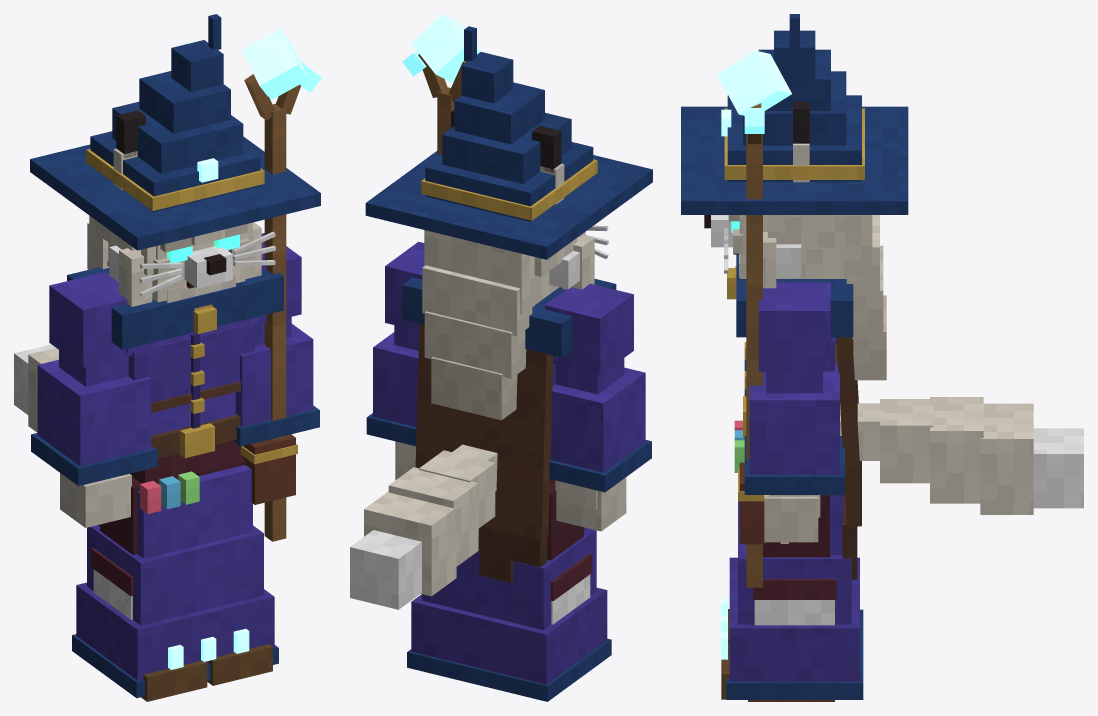
Rendered from beastfolk_mage_v2.glb.
3 renders of one model, left to right at view 1: azimuth 30°, elevation 25°; view 2: azimuth 150°, elevation 25°; view 3: azimuth 270°, elevation 25°, orthographic. The views are drawn at different scales.
Parts seen in each view (by area): view 1: Head, Root, Torso, ArmR, HandL, ArmL, LegR, LegL; view 2: Head, Torso, Root, ArmR, ArmL, HandL, LegR; view 3: Head, Torso, ArmL, Root, HandL, LegL.
Part boxes in pixels (x1,y1,x2,y2): Head: [30, 14, 320, 306]; Root: [72, 465, 278, 698]; Torso: [14, 267, 297, 513]; ArmR: [31, 272, 157, 527]; HandL: [241, 29, 321, 541]; ArmL: [234, 233, 319, 446]; LegR: [91, 477, 207, 701]; LegL: [196, 455, 272, 685]; Head: [365, 26, 652, 420]; Torso: [350, 277, 616, 609]; Root: [407, 527, 611, 701]; ArmR: [545, 283, 651, 531]; ArmL: [366, 241, 424, 480]; HandL: [402, 14, 482, 155]; LegR: [547, 481, 592, 624]; Head: [681, 14, 908, 380]; Torso: [727, 254, 1083, 579]; ArmL: [744, 282, 844, 543]; Root: [721, 495, 863, 699]; HandL: [717, 50, 791, 587]; LegL: [721, 495, 836, 701].
Bounding box in the file's own units: 0.8894 × 2.22 × 1.21.
Materials: 39 (39 with a texture image).
